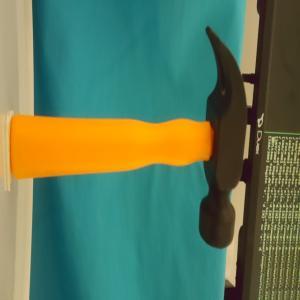martelo: (10, 24, 247, 249)
